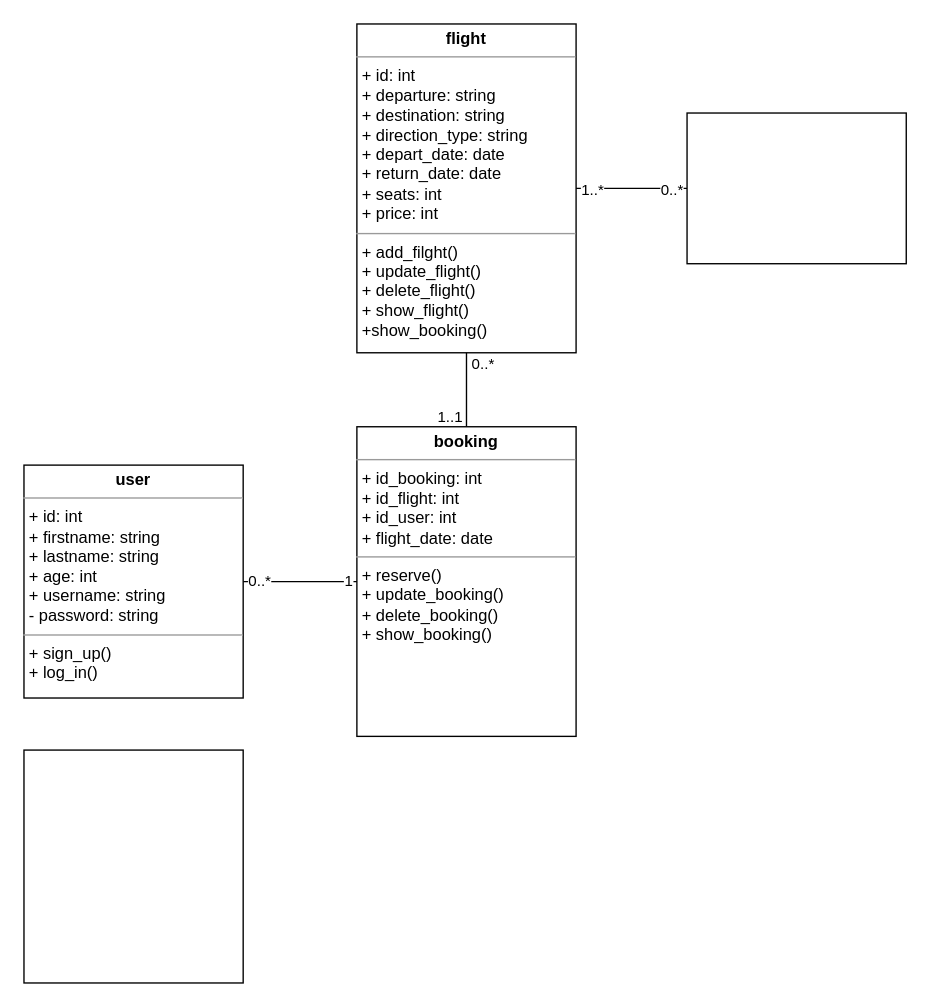
The diagram is 930 pixels wide and 1007 high, and some of its shapes have lost their labels. Each missing label, with the centre of its shape:
admin + id: int + adminname: string - password: string + log_in(): (x=796, y=188)
passenger + firstname:string +lastname:string +age:int + sign_up() + log_in(): (x=133, y=866)
